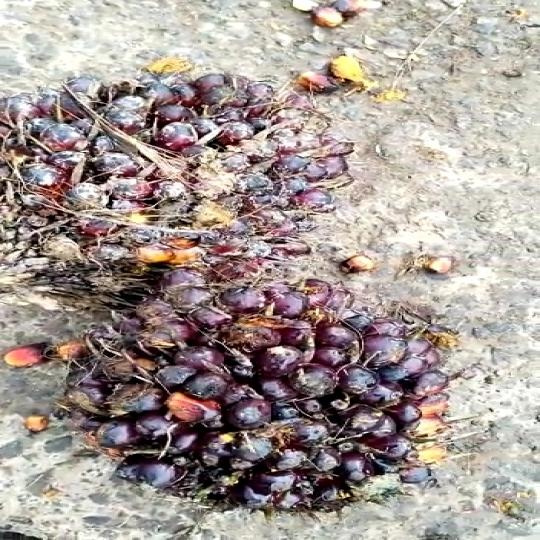kurang masak: (50, 256, 510, 518), (0, 64, 332, 292)
